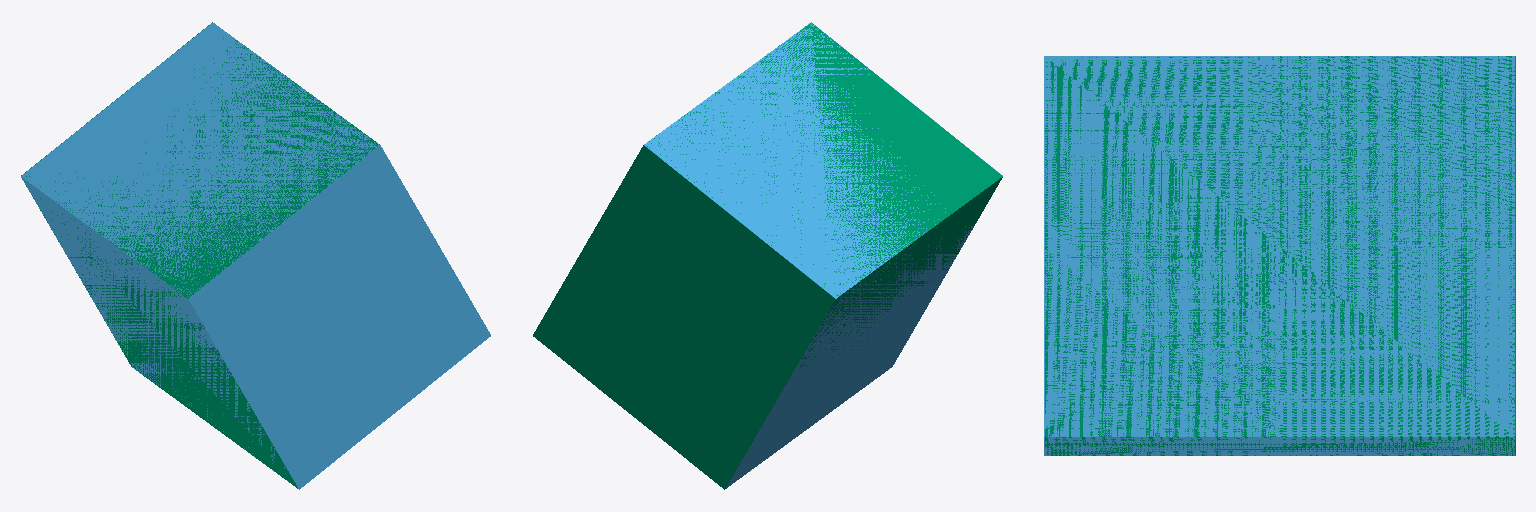
The robot description file, URDF, robot "simple_robot":
<?xml version="1.0" ?>
<robot name="simple_robot">
  <joint name="right_hip_pitch" type="revolute">
    <parent link="torso"/>
    <child link="right_upper_leg"/>
    <origin rpy="0 0 0" xyz="0 -0.05 0"/>
    <axis xyz="0 1 0"/>
  </joint>
  <joint name="left_hip_pitch" type="revolute">
    <parent link="torso"/>
    <child link="left_upper_leg"/>
    <origin rpy="0 0 0" xyz="0 0.05 0"/>
    <axis xyz="0 1 0"/>
  </joint>
  <joint name="right_knee_pitch" type="revolute">
    <parent link="right_upper_leg"/>
    <child link="right_lower_leg"/>
    <origin rpy="0 0 0" xyz="0 0 -0.2"/>
    <axis xyz="0 1 0"/>
  </joint>
  <joint name="left_knee_pitch" type="revolute">
    <parent link="left_upper_leg"/>
    <child link="left_lower_leg"/>
    <origin rpy="0 0 0" xyz="0 0 -0.2"/>
    <axis xyz="0 1 0"/>
  </joint>
  <joint name="right_ankle_pitch" type="revolute">
    <parent link="right_lower_leg"/>
    <child link="right_ankle"/>
    <origin rpy="0 0 0" xyz="0 0 -0.2"/>
    <axis xyz="0 1 0"/>
  </joint>
  <joint name="left_ankle_pitch" type="revolute">
    <parent link="left_lower_leg"/>
    <child link="left_ankle"/>
    <origin rpy="0 0 0" xyz="0 0 -0.2"/>
    <axis xyz="0 1 0"/>
  </joint>
  <joint name="right_ankle_roll" type="revolute">
    <parent link="right_ankle"/>
    <child link="right_foot"/>
    <origin rpy="0 0 0" xyz="0 0 0"/>
    <axis xyz="1 0 0"/>
  </joint>
  <joint name="left_ankle_roll" type="revolute">
    <parent link="left_ankle"/>
    <child link="left_foot"/>
    <origin rpy="0 0 0" xyz="0 0 0"/>
    <axis xyz="1 0 0"/>
  </joint>
  <link name="torso">
    <inertial>
      <mass value="0.1"/>
      <origin rpy="0  0  0" xyz="0 0 0.2"/>
      <inertia ixx="0" ixy="0" ixz="0" iyy="0" iyz="0" izz="0"/>
    </inertial>
    <collision name="torso_collision">
      <origin rpy="0 0 0" xyz="0  0  0"/>
      <geometry>
        <mesh filename="torso.stl" scale="1 1 1"/>
      </geometry>
    </collision>
    <visual name="torso_visual">
      <origin rpy="0 0 0" xyz="0  0  0"/>
      <geometry>
        <mesh filename="torso.stl" scale="1 1 1"/>
      </geometry>
    </visual>
  </link>
  <link name="right_upper_leg">
    <inertial>
      <mass value="0.1"/>
      <origin rpy="0  0  0" xyz="0 0 -0.1"/>
      <inertia ixx="0" ixy="0" ixz="0" iyy="0" iyz="0" izz="0"/>
    </inertial>
    <collision name="right_upper_leg_collision">
      <origin rpy="0  0  0" xyz="0  0  0"/>
      <geometry>
        <mesh filename="upper_leg.stl" scale="1 1 1"/>
      </geometry>
    </collision>
    <visual name="right_upper_leg_visual">
      <origin rpy="0  0  0" xyz="0  0  0"/>
      <geometry>
        <mesh filename="upper_leg.stl" scale="1 1 1"/>
      </geometry>
    </visual>
  </link>
  <link name="left_upper_leg">
    <inertial>
      <mass value="0.1"/>
      <origin rpy="0  0  0" xyz="0 0 -0.1"/>
      <inertia ixx="0" ixy="0" ixz="0" iyy="0" iyz="0" izz="0"/>
    </inertial>
    <collision name="left_upper_leg_collision">
      <origin rpy="0  0  0" xyz="0  0  0"/>
      <geometry>
        <mesh filename="upper_leg.stl" scale="1 1 1"/>
      </geometry>
    </collision>
    <visual name="left_upper_leg_visual">
      <origin rpy="0  0  0" xyz="0  0  0"/>
      <geometry>
        <mesh filename="upper_leg.stl" scale="1 1 1"/>
      </geometry>
    </visual>
  </link>
  <link name="right_lower_leg">
    <inertial>
      <mass value="0.1"/>
      <origin rpy="0  0  0" xyz="0 0 -0.1"/>
      <inertia ixx="0" ixy="0" ixz="0" iyy="0" iyz="0" izz="0"/>
    </inertial>
    <collision name="right_lower_leg_collision">
      <origin rpy="0  0  0" xyz="0  0  0"/>
      <geometry>
        <mesh filename="lower_leg.stl" scale="1 1 1"/>
      </geometry>
    </collision>
    <visual name="right_lower_leg_visual">
      <origin rpy="0  0  0" xyz="0  0  0"/>
      <geometry>
        <mesh filename="lower_leg.stl" scale="1 1 1"/>
      </geometry>
    </visual>
  </link>
  <link name="left_lower_leg">
    <inertial>
      <mass value="0.1"/>
      <origin rpy="0  0  0" xyz="-0.1"/>
      <inertia ixx="0" ixy="0" ixz="0" iyy="0" iyz="0" izz="0"/>
    </inertial>
    <collision name="left_lower_leg_collision">
      <origin rpy="0  0  0" xyz="0  0  0"/>
      <geometry>
        <mesh filename="lower_leg.stl" scale="1 1 1"/>
      </geometry>
    </collision>
    <visual name="left_lower_leg_visual">
      <origin rpy="0  0  0" xyz="0  0  0"/>
      <geometry>
        <mesh filename="lower_leg.stl" scale="1 1 1"/>
      </geometry>
    </visual>
  </link>
  <link name="right_ankle">
    <inertial>
      <mass value="0"/>
      <origin rpy="0  0  0" xyz="0 0 0"/>
      <inertia ixx="0" ixy="0" ixz="0" iyy="0" iyz="0" izz="0"/>
    </inertial>
  </link>
  <link name="left_ankle">
    <inertial>
      <mass value="0"/>
      <origin rpy="0  0  0" xyz="0 0 0"/>
      <inertia ixx="0" ixy="0" ixz="0" iyy="0" iyz="0" izz="0"/>
    </inertial>
  </link>
  <link name="right_foot">
    <inertial>
      <mass value="0.1"/>
      <origin rpy="0  0  0" xyz="0 0 0"/>
      <inertia ixx="0" ixy="0" ixz="0" iyy="0" iyz="0" izz="0"/>
    </inertial>
    <collision name="right_foot_collision">
      <origin rpy="0  0  0" xyz="0  0  0"/>
      <geometry>
        <mesh filename="left_foot.stl" scale="1 1 1"/>
      </geometry>
    </collision>
    <visual name="right_foot_visual">
      <origin rpy="0  0  0" xyz="0  0  0"/>
      <geometry>
        <mesh filename="left_foot.stl" scale="1 1 1"/>
      </geometry>
    </visual>
  </link>
  <link name="left_foot">
    <inertial>
      <mass value="0.1"/>
      <origin rpy="0  0  0" xyz="0 0 0"/>
      <inertia ixx="0" ixy="0" ixz="0" iyy="0" iyz="0" izz="0"/>
    </inertial>
    <collision name="right_foot_collision">
      <origin rpy="0  0  0" xyz="0  0  0"/>
      <geometry>
        <mesh filename="left_foot.stl" scale="1 1 1"/>
      </geometry>
    </collision>
    <visual name="right_foot_visual">
      <origin rpy="0  0  0" xyz="0  0  0"/>
      <geometry>
        <mesh filename="left_foot.stl" scale="1 1 1"/>
      </geometry>
    </visual>
  </link>
</robot>

--- Facts derived from the render (not from the file) ---
3 views of the same robot in one strip: view 1: azimuth 30°, elevation 25°; view 2: azimuth 150°, elevation 25°; view 3: azimuth 270°, elevation 25° (orthographic).
Model simple_robot with 9 links and 8 joints (8 revolute), rooted at torso, posed all joints at 0.
Visible links, largest first — view 1: right_upper_leg, left_upper_leg; view 2: left_upper_leg, right_upper_leg; view 3: right_upper_leg, left_upper_leg.
Link boxes in pixels (left/top/right/bottom): right_upper_leg: left=21, top=23, right=490, bottom=489; left_upper_leg: left=21, top=22, right=379, bottom=488; left_upper_leg: left=533, top=23, right=1002, bottom=489; right_upper_leg: left=644, top=22, right=1002, bottom=488; right_upper_leg: left=1044, top=56, right=1514, bottom=455; left_upper_leg: left=1045, top=56, right=1515, bottom=455.
Bounding box of the posed robot: 83.53 × 80.1 × 85.59 m (x, y, z).
2 mesh visuals loaded from 4 distinct referenced files (1 binary STL); not drawn: 5 (reference not matched to a file when rendering).